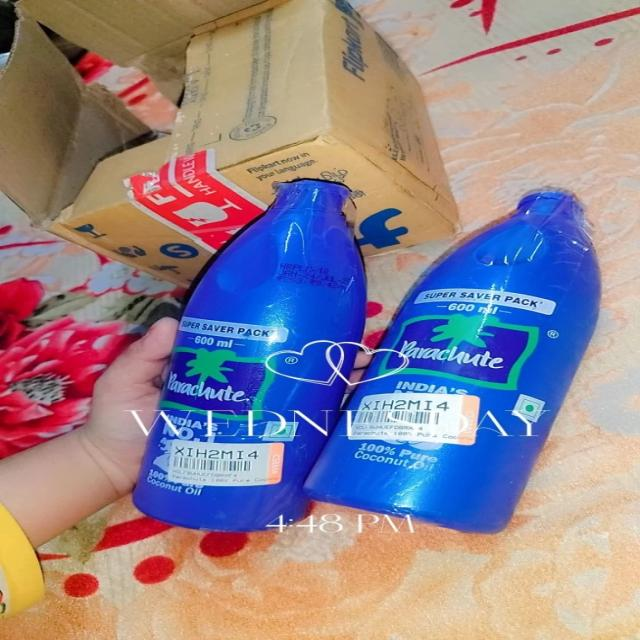parachute_oil: (352, 163, 575, 543), (145, 172, 334, 538)
